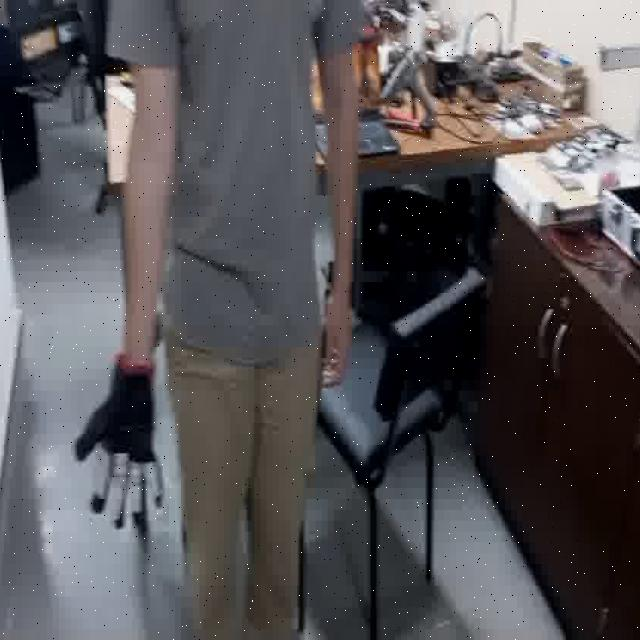Gloves: (73, 354, 181, 536)
